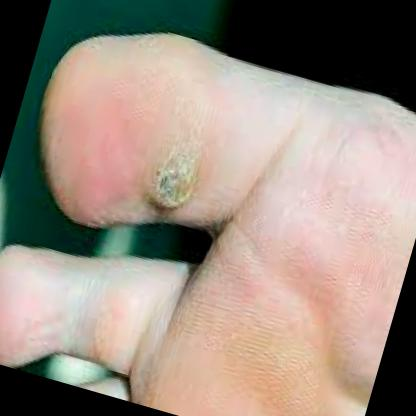Warts: (136, 118, 214, 219)
